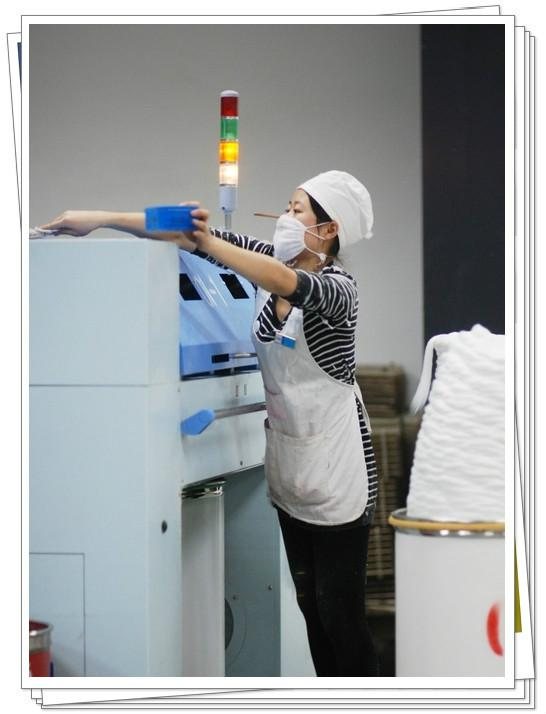OK: (272, 200, 325, 253)
